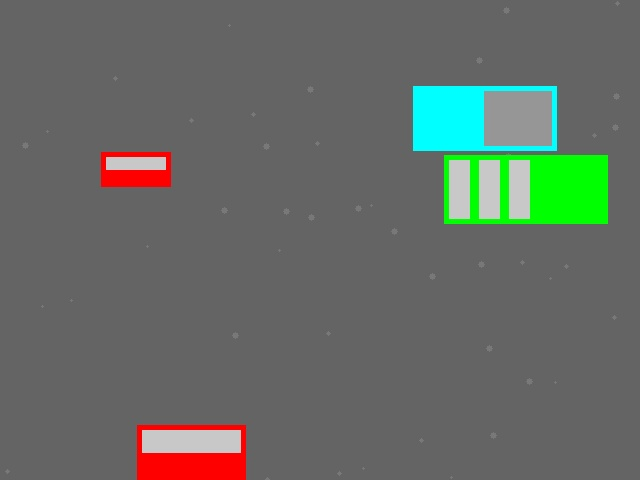bus: (444, 155, 607, 223)
car: (137, 425, 245, 479), (101, 152, 170, 186)
truck: (413, 86, 556, 150)
